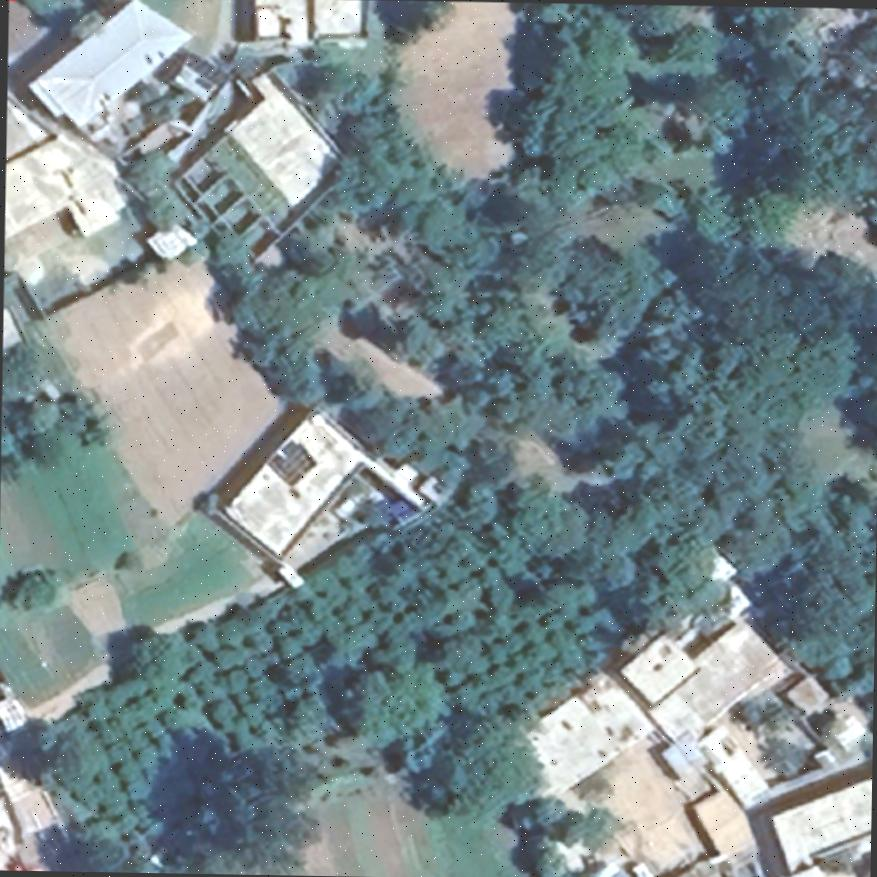Solarpanel: (266, 438, 315, 487)
